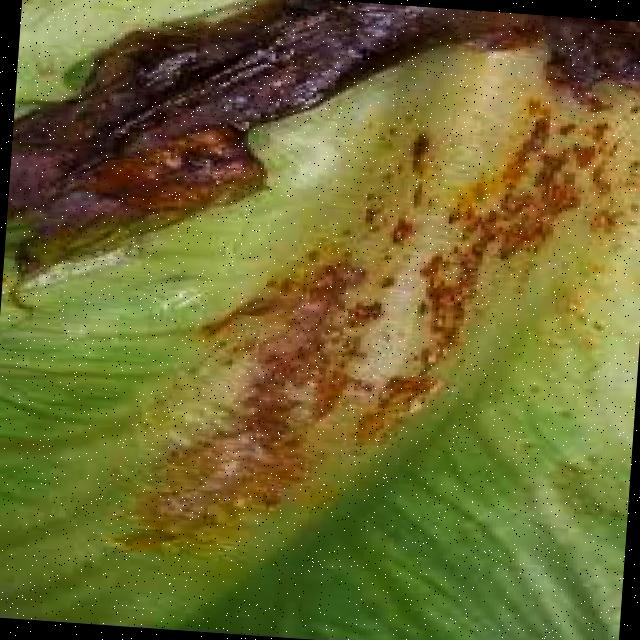Septoria_Blight_on_lettuce: (31, 0, 628, 603)
